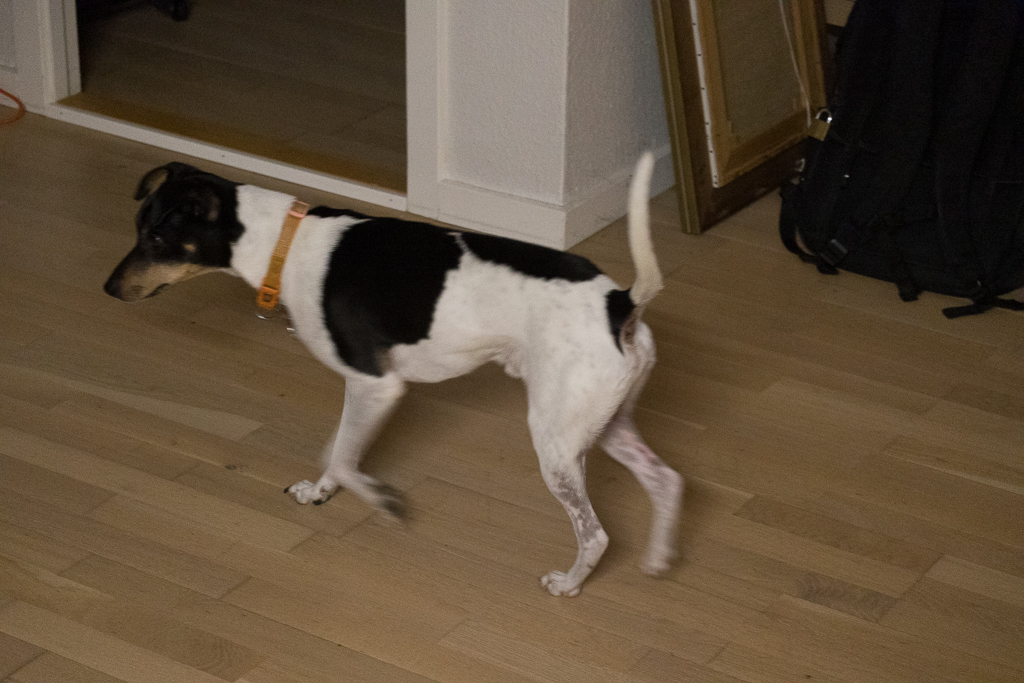Dog: (88, 140, 697, 599)
